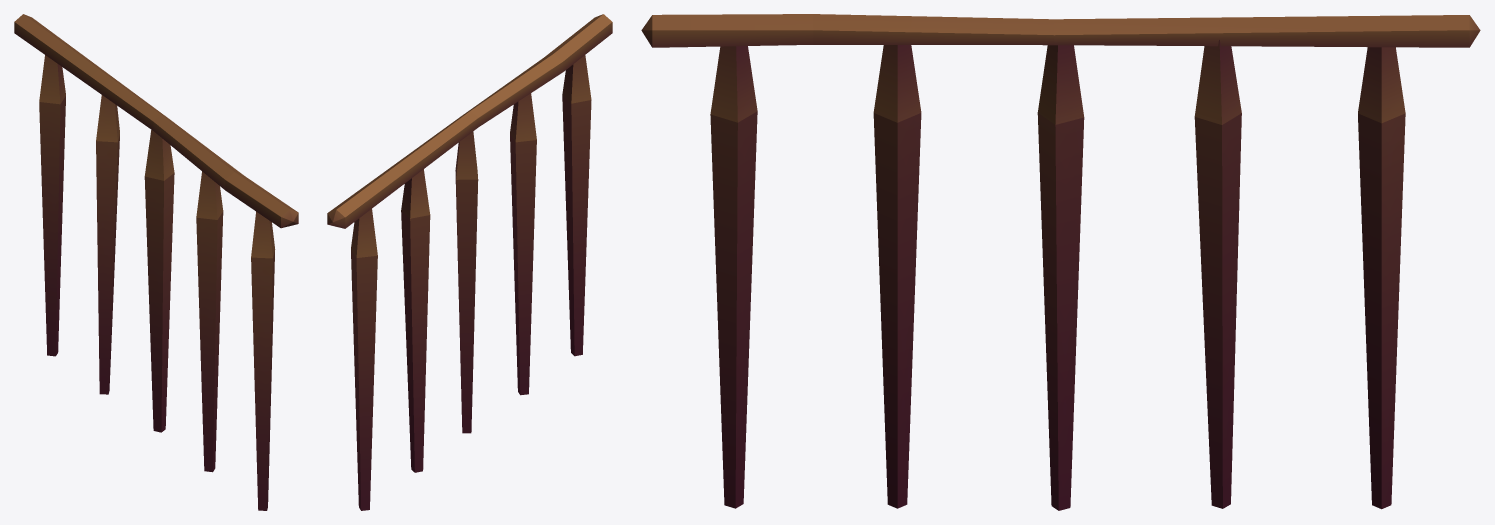
Rendered from TSP_House_Rail_02A.fbx.
The picture shows the model from 3 angles, left to right: view 1: azimuth 30°, elevation 25°; view 2: azimuth 150°, elevation 25°; view 3: azimuth 270°, elevation 25°; orthographic projection. The views are drawn at different scales.
Parts seen in each view (by area): view 1: TSP_House_Rail_02A; view 2: TSP_House_Rail_02A; view 3: TSP_House_Rail_02A.
Boxes of the visible parts, bbox=[...] form: TSP_House_Rail_02A: bbox=[14, 14, 298, 510]; TSP_House_Rail_02A: bbox=[327, 14, 612, 510]; TSP_House_Rail_02A: bbox=[641, 14, 1480, 510].
Bounding box in the file's own units: 0.129 × 1.32 × 2.05.
